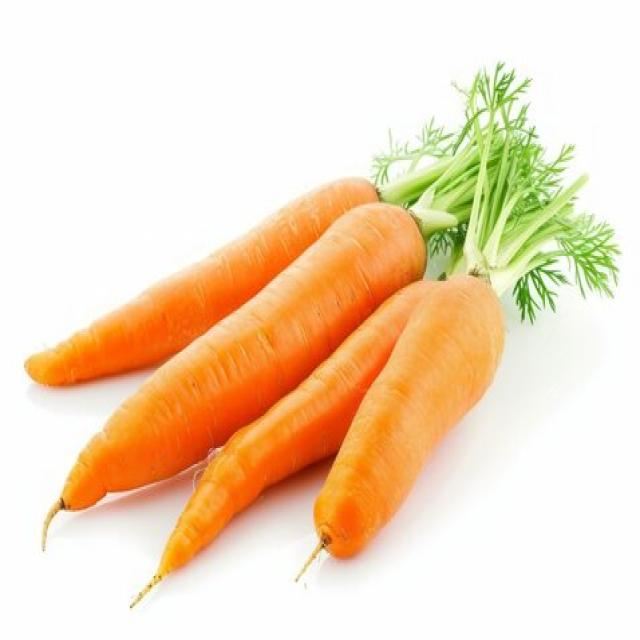Carrot: (127, 274, 442, 608), (22, 174, 382, 388), (293, 272, 505, 583)
